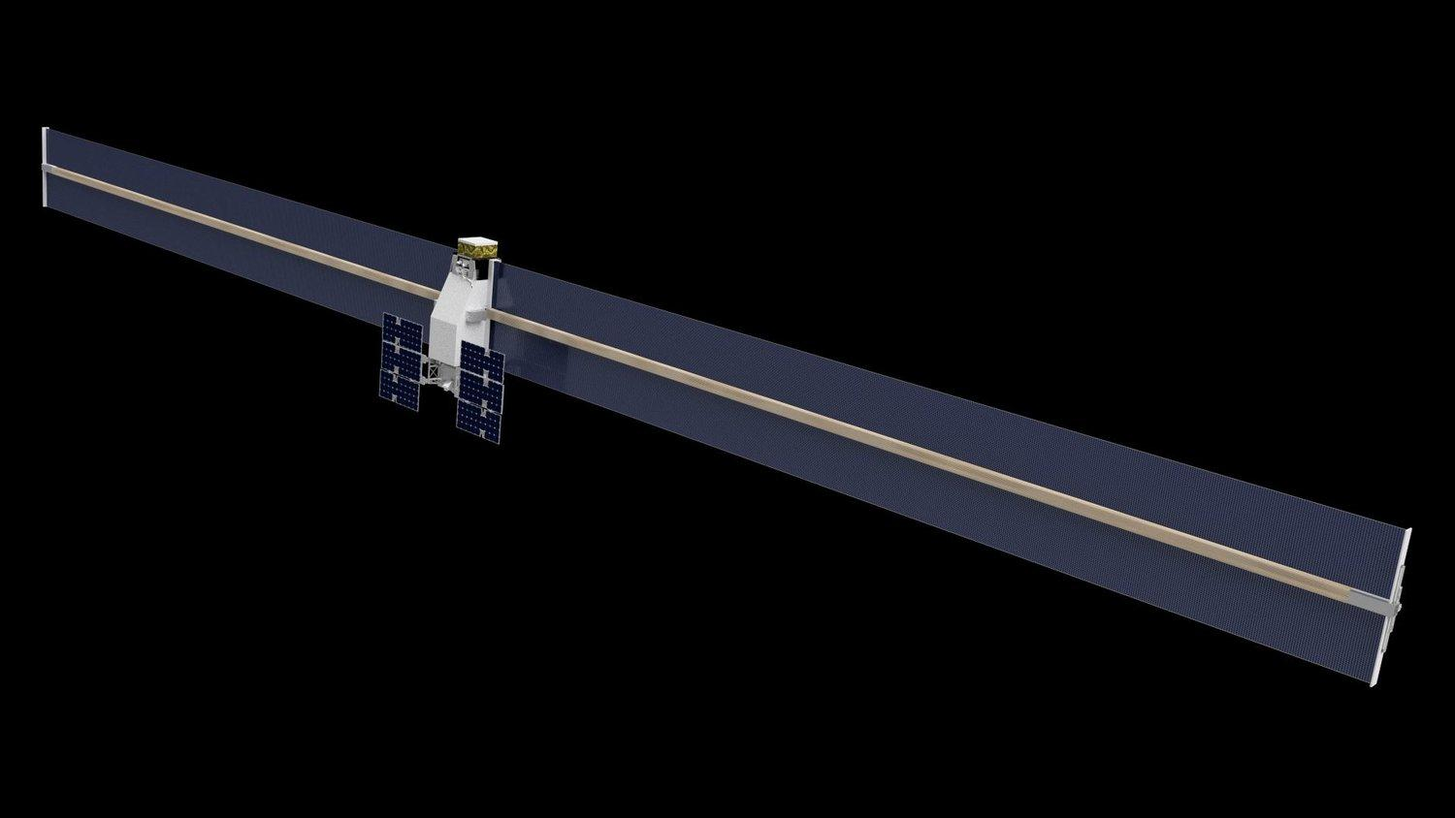body: (426, 235, 500, 405)
solar: (488, 257, 1415, 690), (40, 125, 459, 349), (453, 338, 508, 446), (376, 309, 425, 414)
